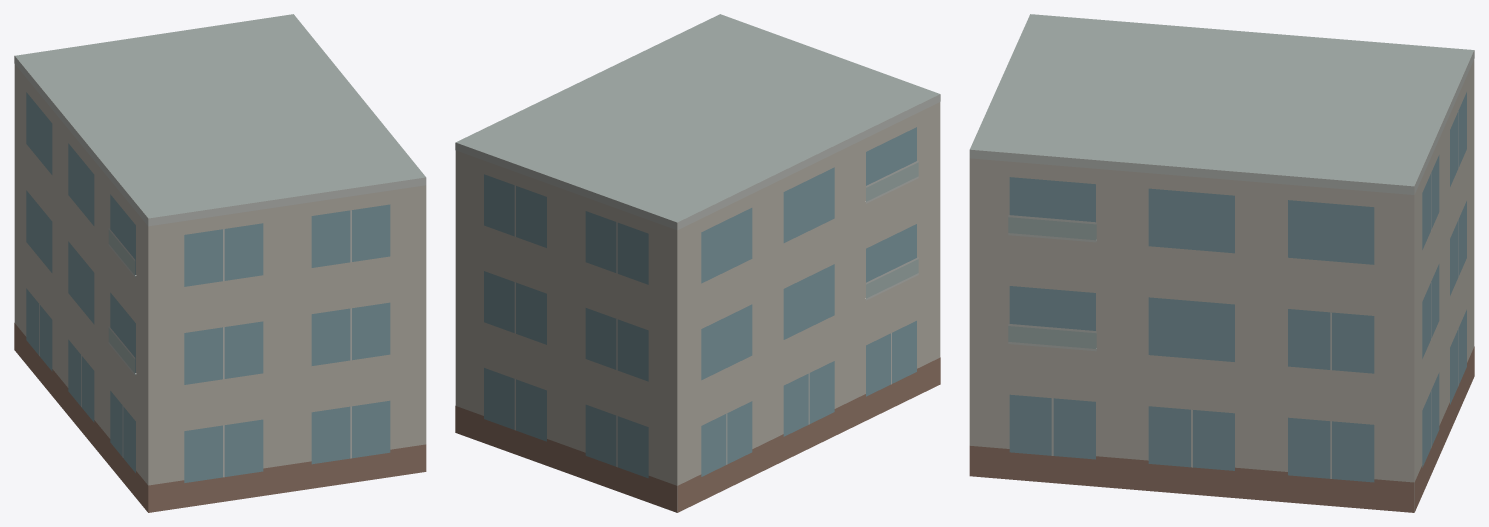
The model's file is survey-upis-32702659.glb.
3 views of the same model, side by side, from view 1: azimuth 30°, elevation 25°; view 2: azimuth 150°, elevation 25°; view 3: azimuth 270°, elevation 25° (orthographic). The views are drawn at different scales.
Parts seen in each view (by area): view 1: survey-upis-32702659.tmp; view 2: survey-upis-32702659.tmp; view 3: survey-upis-32702659.tmp.
Boxes of the visible parts, x1,y1,x2,y2 form: survey-upis-32702659.tmp: (14, 14, 426, 512); survey-upis-32702659.tmp: (455, 14, 940, 512); survey-upis-32702659.tmp: (969, 14, 1474, 512).
Size of the model in its own units: 10.37 by 9.15 by 12.83.
